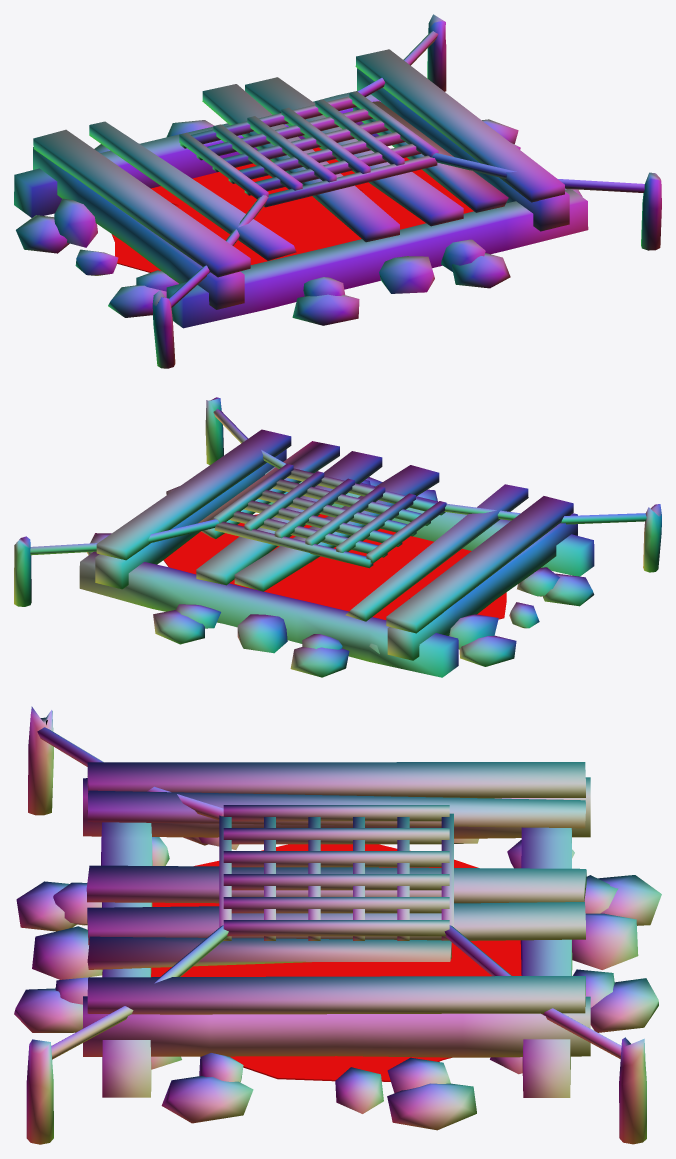
Rendered from SM_Prop_March_PitMouthSealed_LOD1.fbx.
The picture shows the model from 3 angles, top to bottom: view 1: azimuth 30°, elevation 25°; view 2: azimuth 150°, elevation 25°; view 3: azimuth 270°, elevation 25°; orthographic projection. The views are drawn at different scales.
Parts seen in each view (by area): view 1: SM_Prop_March_PitMouthSealed_LOD1; view 2: SM_Prop_March_PitMouthSealed_LOD1; view 3: SM_Prop_March_PitMouthSealed_LOD1.
Part boxes in pixels (x1,y1,x2,y2): SM_Prop_March_PitMouthSealed_LOD1: [14, 14, 661, 368]; SM_Prop_March_PitMouthSealed_LOD1: [14, 397, 661, 677]; SM_Prop_March_PitMouthSealed_LOD1: [14, 706, 661, 1144].
Bounding box in the file's own units: 3.28 × 0.5161 × 2.62.
